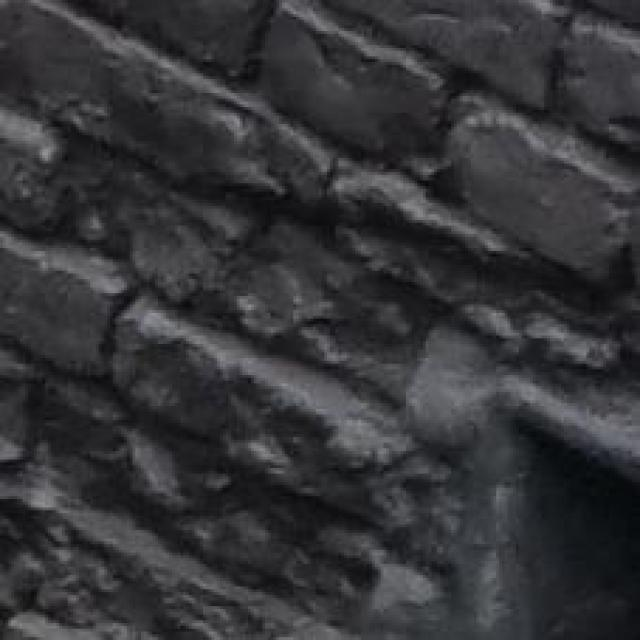Crack: (169, 163, 640, 640)
